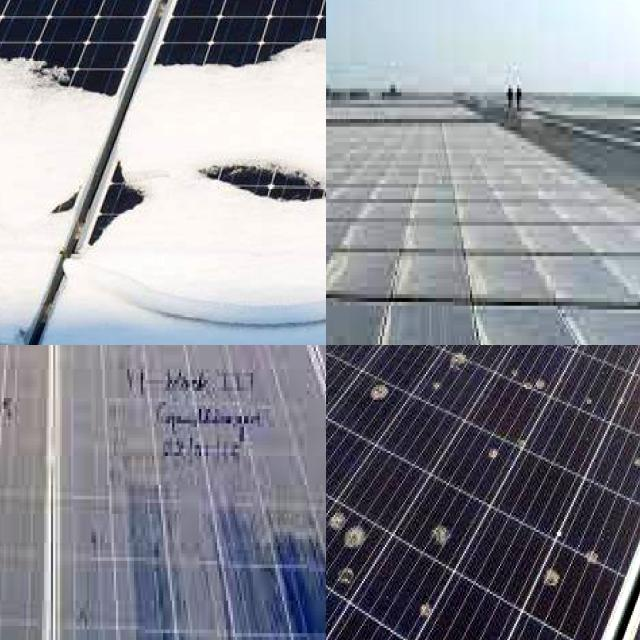bird: (326, 504, 369, 598), (530, 556, 578, 608), (512, 352, 552, 408), (364, 376, 408, 406), (414, 588, 442, 626), (326, 370, 355, 406), (429, 523, 460, 555), (611, 376, 635, 414), (482, 441, 510, 468), (452, 350, 476, 378), (580, 374, 598, 411), (581, 542, 603, 572), (326, 345, 349, 373), (622, 442, 640, 477), (326, 423, 344, 455), (326, 387, 336, 430), (326, 345, 341, 364), (326, 345, 339, 363)
dust: (68, 346, 148, 549), (62, 532, 172, 640), (183, 535, 279, 640), (156, 345, 211, 528), (0, 476, 61, 640), (0, 345, 64, 486), (254, 390, 314, 540), (0, 491, 59, 640), (0, 345, 62, 468), (356, 278, 457, 345), (465, 287, 543, 345), (198, 345, 290, 394), (41, 345, 168, 379), (326, 260, 375, 345), (70, 345, 182, 381), (175, 345, 255, 385), (0, 345, 82, 384), (0, 499, 21, 640), (0, 345, 21, 479), (565, 305, 635, 345), (299, 540, 326, 640), (326, 281, 362, 345), (0, 345, 59, 374)
panel: (128, 23, 326, 112), (0, 39, 144, 116), (41, 170, 158, 256), (190, 151, 326, 217), (0, 140, 78, 240), (64, 0, 196, 45), (223, 0, 326, 54), (0, 0, 91, 43), (0, 79, 35, 168), (0, 0, 57, 52), (0, 159, 29, 244), (0, 0, 56, 37), (0, 0, 39, 28)
